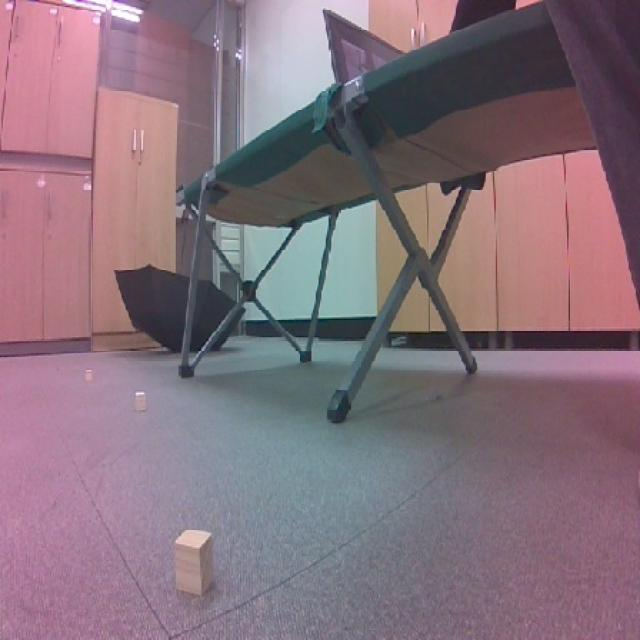obstacle: (164, 522, 231, 613)
